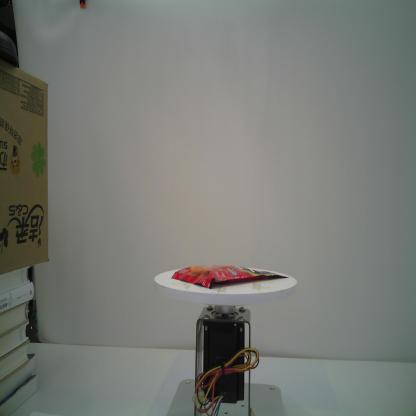Candy: (170, 262, 291, 290)
